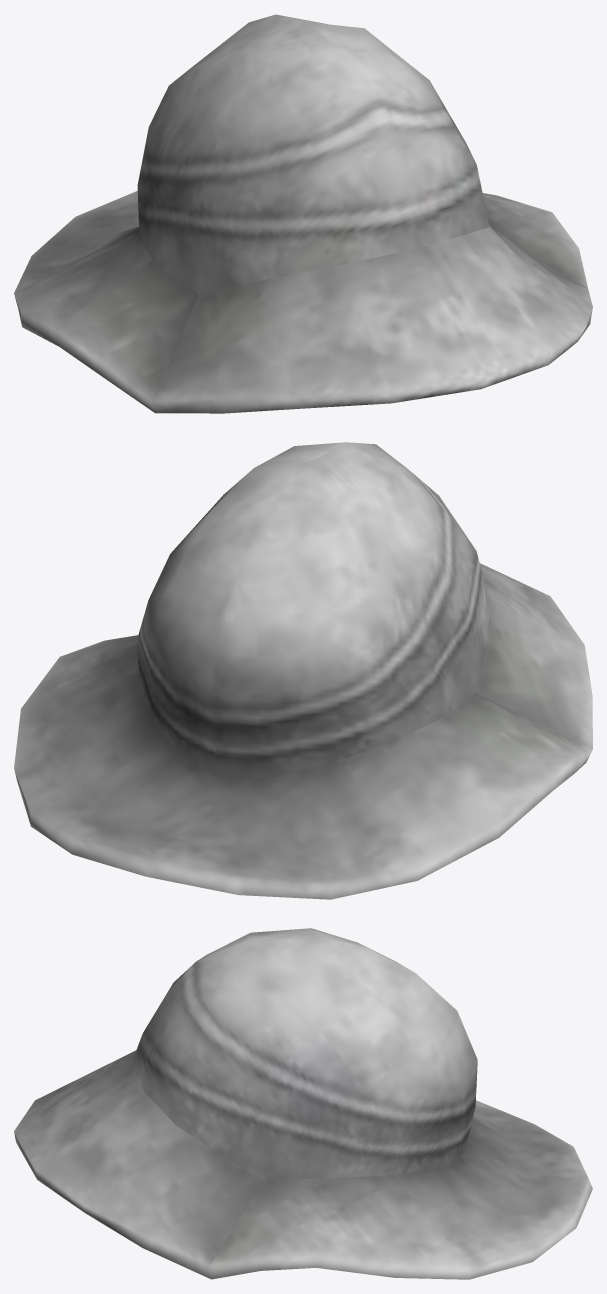
The model's file is helmet-base.glb.
3 views of the same model, one above another, from view 1: azimuth 30°, elevation 25°; view 2: azimuth 150°, elevation 25°; view 3: azimuth 270°, elevation 25° (orthographic). The views are drawn at different scales.
Bounding box in the file's own units: 0.412 × 0.244 × 0.4858.
Materials: 1 (1 with a texture image).
